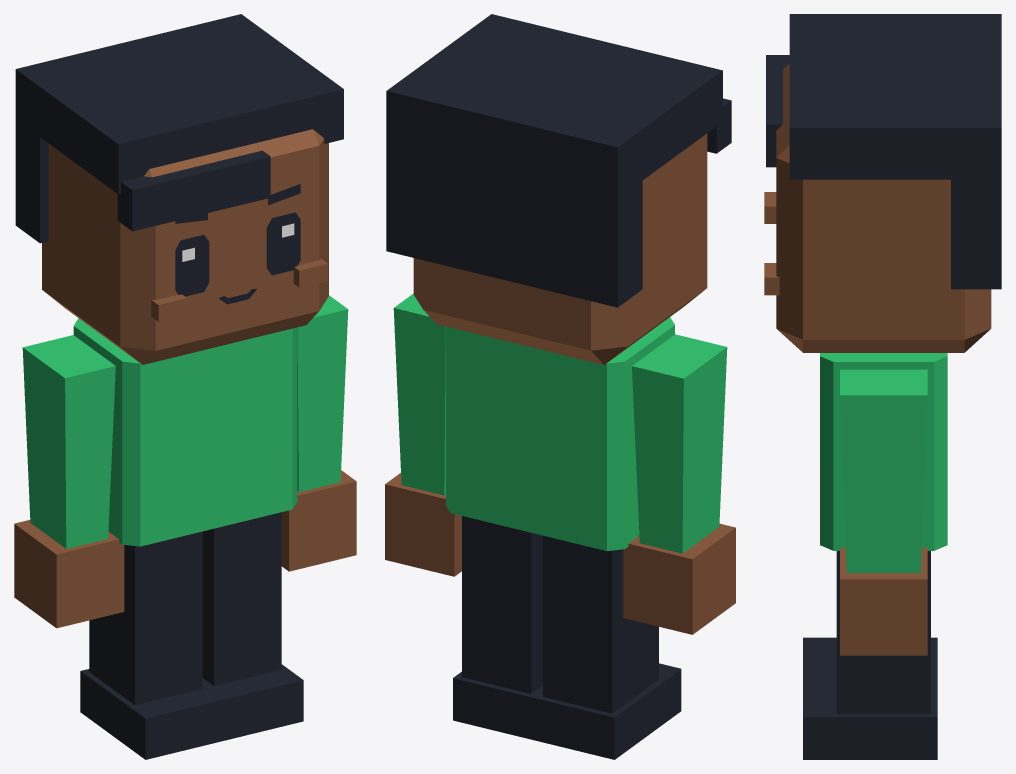
The model's file is townsperson-slim.glb.
3 renders of one model, left to right at view 1: azimuth 30°, elevation 25°; view 2: azimuth 150°, elevation 25°; view 3: azimuth 270°, elevation 25°, orthographic. The views are drawn at different scales.
Parts seen in each view (by area): view 1: hair, head, body, arm_R, leg_R, leg_L, hand_R, arm_L, shoe_R, face, hand_L, shoe_L; view 2: hair, body, head, arm_R, leg_R, leg_L, hand_R, arm_L, shoe_R, hand_L, shoe_L; view 3: hair, head, arm_L, body, shoe_L, hand_L, leg_L, shoe_R, face.
Part boxes in pixels (x1=…): hair: x1=15, y1=14, x2=343, y2=243; head: x1=42, y1=129, x2=328, y2=364; body: x1=73, y1=318, x2=297, y2=546; arm_R: x1=22, y1=335, x2=115, y2=548; leg_R: x1=89, y1=531, x2=202, y2=705; leg_L: x1=202, y1=512, x2=281, y2=685; hand_R: x1=14, y1=520, x2=124, y2=628; arm_L: x1=297, y1=295, x2=348, y2=492; shoe_R: x1=80, y1=669, x2=224, y2=759; face: x1=151, y1=184, x2=327, y2=321; hand_L: x1=281, y1=470, x2=356, y2=571; shoe_L: x1=202, y1=664, x2=303, y2=740; hair: x1=386, y1=14, x2=731, y2=307; body: x1=446, y1=317, x2=674, y2=550; head: x1=413, y1=133, x2=707, y2=364; arm_R: x1=632, y1=334, x2=727, y2=553; leg_R: x1=543, y1=535, x2=658, y2=713; leg_L: x1=462, y1=516, x2=542, y2=693; hand_R: x1=623, y1=523, x2=735, y2=634; arm_L: x1=393, y1=293, x2=445, y2=495; shoe_R: x1=533, y1=663, x2=681, y2=759; hand_L: x1=385, y1=473, x2=461, y2=576; shoe_L: x1=453, y1=672, x2=542, y2=739; hair: x1=766, y1=14, x2=1001, y2=289; head: x1=776, y1=63, x2=991, y2=352; arm_L: x1=840, y1=369, x2=927, y2=572; body: x1=820, y1=353, x2=947, y2=550; shoe_L: x1=803, y1=677, x2=937, y2=759; hand_L: x1=840, y1=547, x2=927, y2=655; leg_L: x1=836, y1=551, x2=930, y2=714; shoe_R: x1=803, y1=637, x2=937, y2=677; face: x1=764, y1=192, x2=779, y2=295.
Size of the model in its own units: 1.06 by 2.13 by 0.705.
